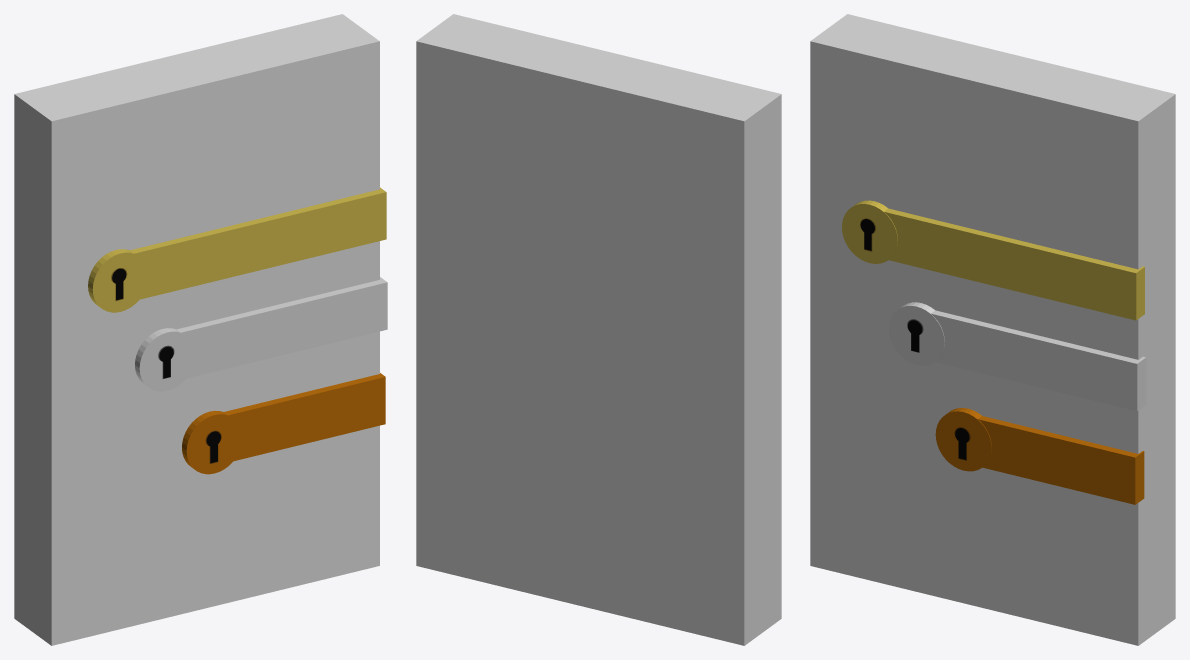
The model's file is Door2.fbx.
3 views of the same model, side by side, from view 1: azimuth 30°, elevation 25°; view 2: azimuth 150°, elevation 25°; view 3: azimuth 330°, elevation 25° (orthographic).
Parts seen in each view (by area): view 1: Cube_1, Cube, Cube_2, Cube_3, Tube, Tube_1, Tube_2; view 2: Cube_1; view 3: Cube_1, Cube, Cube_2, Cube_3, Tube_2, Tube_1, Tube.
Part boxes in pixels (box(x1,y1,x2,y2)): Cube_1: box(14, 14, 379, 645); Cube: box(130, 187, 386, 299); Cube_2: box(177, 277, 387, 378); Cube_3: box(224, 373, 385, 461); Tube: box(88, 249, 148, 312); Tube_1: box(135, 328, 195, 391); Tube_2: box(182, 411, 242, 474); Cube_1: box(416, 14, 781, 645); Cube_1: box(810, 14, 1175, 645); Cube: box(884, 208, 1144, 320); Cube_2: box(931, 310, 1146, 410); Cube_3: box(978, 416, 1144, 504); Tube_2: box(935, 408, 991, 471); Tube_1: box(888, 302, 944, 365); Tube: box(842, 200, 897, 263).
Bounding box in the file's own units: 192 × 291 × 42.69.
